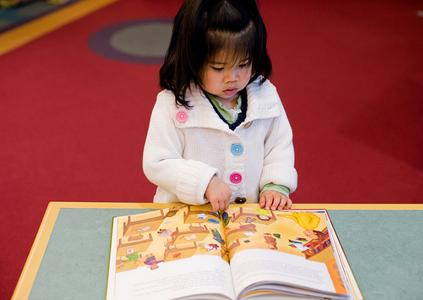person: (141, 1, 300, 216)
